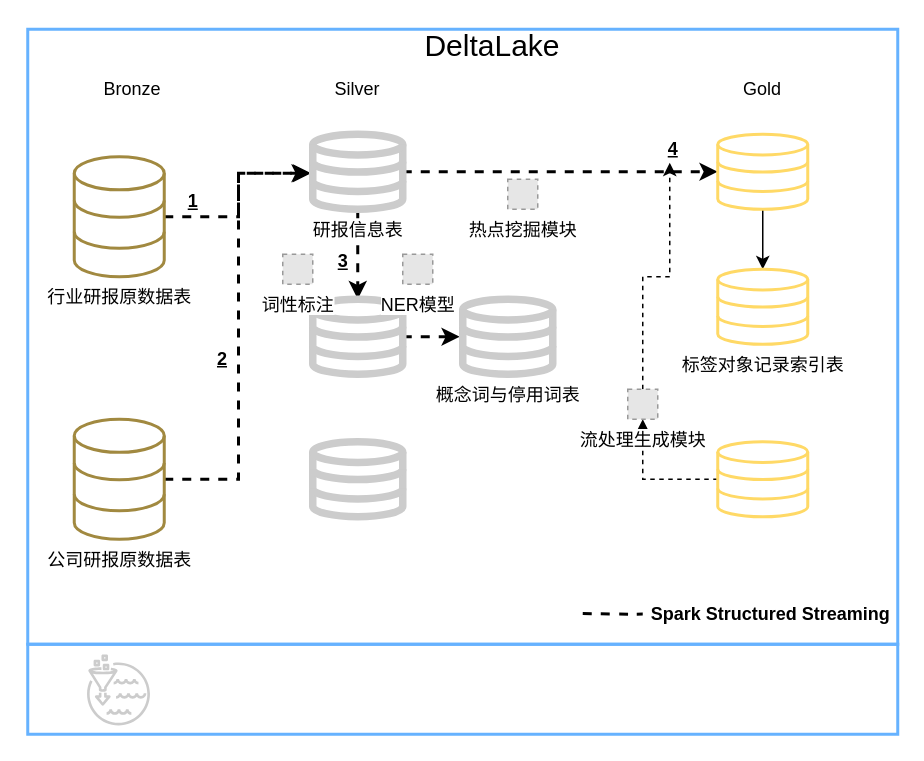
Image size: 924x761. Some labels were removed from this diagram. Grey dashed boxes stand in for pictures. The shapes that lost their labels are listed below. From the top down, each one's box as (x1, y1, x2, y2) in pixels, then its label:
(716, 132, 808, 210): 对象记录标签索引表
(308, 295, 406, 377): 备选概念词表
(308, 437, 406, 520): 热度值查询表
(716, 440, 808, 518): 标签信息表
(26, 642, 898, 735): S3/OSS/HDFS
